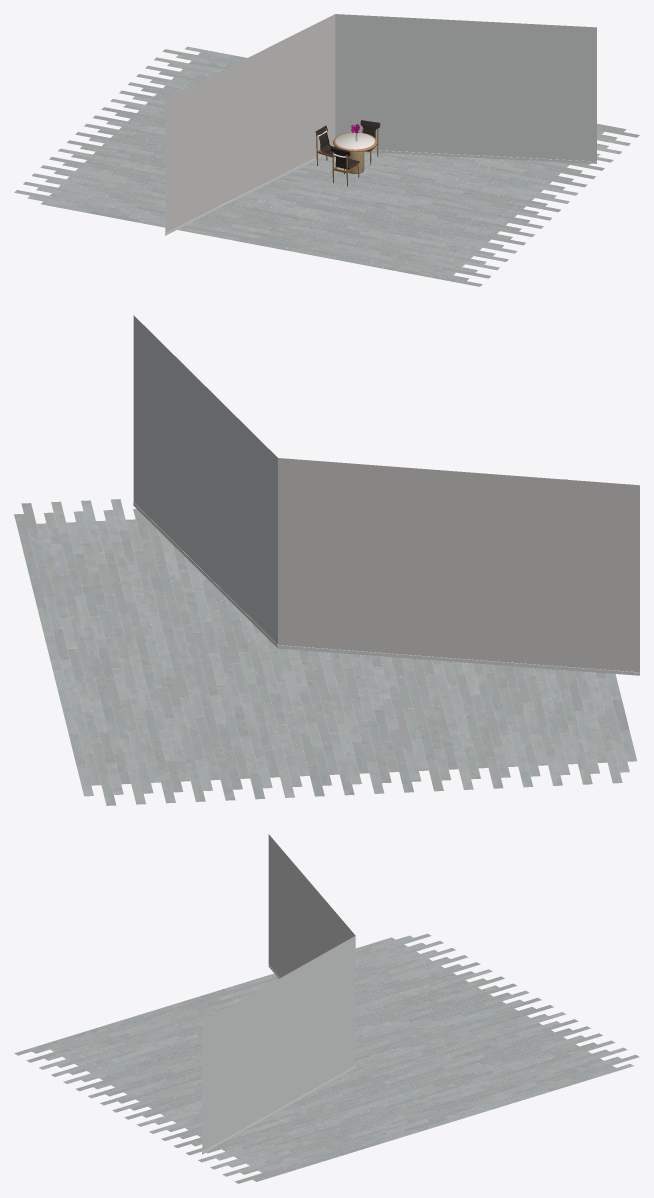
The model's file is codex.glb.
3 renders of one model, top to bottom at view 1: azimuth 30°, elevation 25°; view 2: azimuth 150°, elevation 25°; view 3: azimuth 270°, elevation 25°, orthographic. The views are drawn at different scales.
Visible parts, largest first — view 1: Pale wood plank flooring, Right room wall, Left room wall, Right low white baseboard, Pale reflective circular tabletop, Left low white baseboard; view 2: Pale wood plank flooring, Left room wall, Right room wall, Left low white baseboard; view 3: Pale wood plank flooring, Right room wall, Left room wall.
Part boxes in pixels (x1=…): Pale wood plank flooring: x1=14, y1=46, x2=639, y2=286; Right room wall: x1=335, y1=14, x2=596, y2=161; Left room wall: x1=165, y1=14, x2=335, y2=232; Right low white baseboard: x1=364, y1=150, x2=596, y2=163; Pale reflective circular tabletop: x1=335, y1=132, x2=374, y2=149; Left low white baseboard: x1=165, y1=154, x2=324, y2=235; Pale wood plank flooring: x1=14, y1=479, x2=636, y2=805; Left room wall: x1=278, y1=458, x2=639, y2=672; Right room wall: x1=133, y1=315, x2=277, y2=644; Left low white baseboard: x1=278, y1=645, x2=639, y2=675; Pale wood plank flooring: x1=14, y1=933, x2=639, y2=1183; Right room wall: x1=202, y1=936, x2=355, y2=1151; Left room wall: x1=268, y1=834, x2=355, y2=977.
Size of what is drawn, in the model's own units: 16.21 by 4 by 17.13.
Materials: 53 (37 with a texture image).
